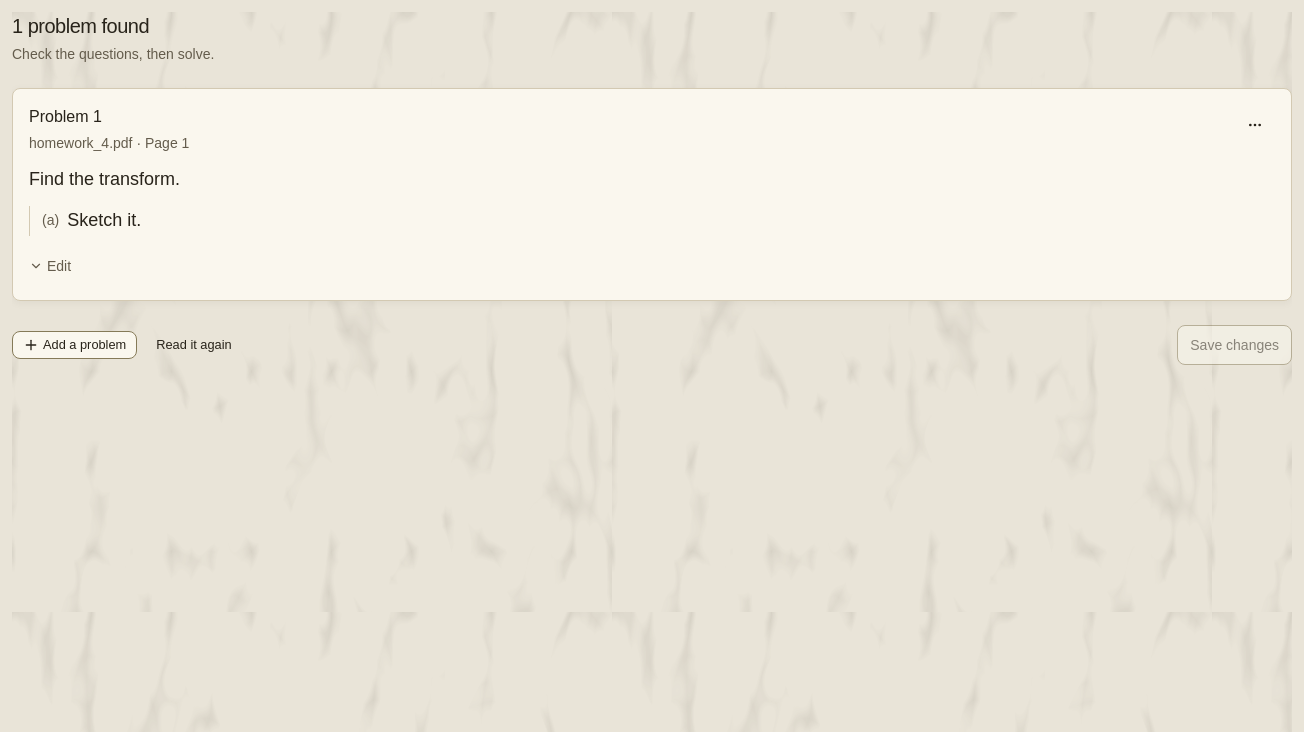
it: SegmentationReview › undo › brings back a sub-part removed by mistake
Step 1. Click the button "Edit" → [50, 266], box [29, 248, 71, 284]
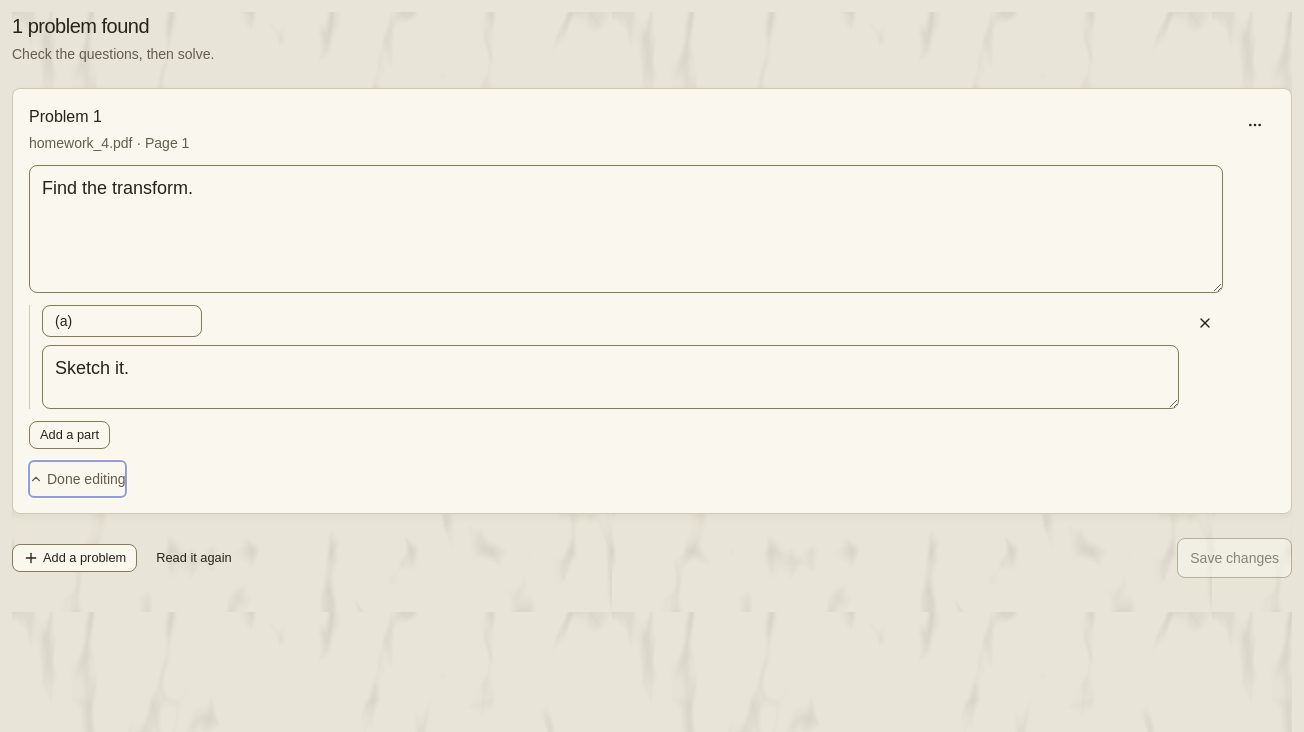
Step 2. Click the button named "Remove part (a) of Problem 1" → [1205, 323], box [1187, 305, 1223, 341]
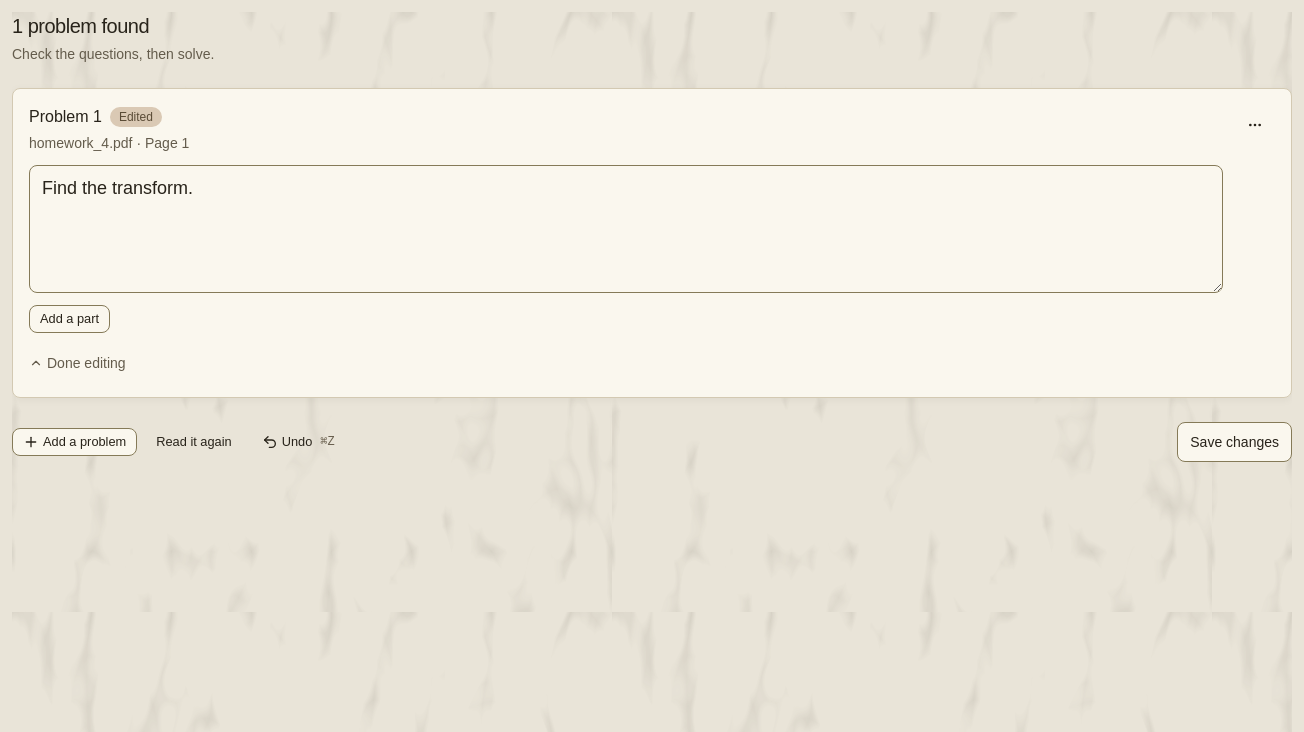
Expected: the text "Sketch it." is not shown
Step 3. Click the button "Undo ⌘Z" → [298, 442], box [251, 428, 346, 456]
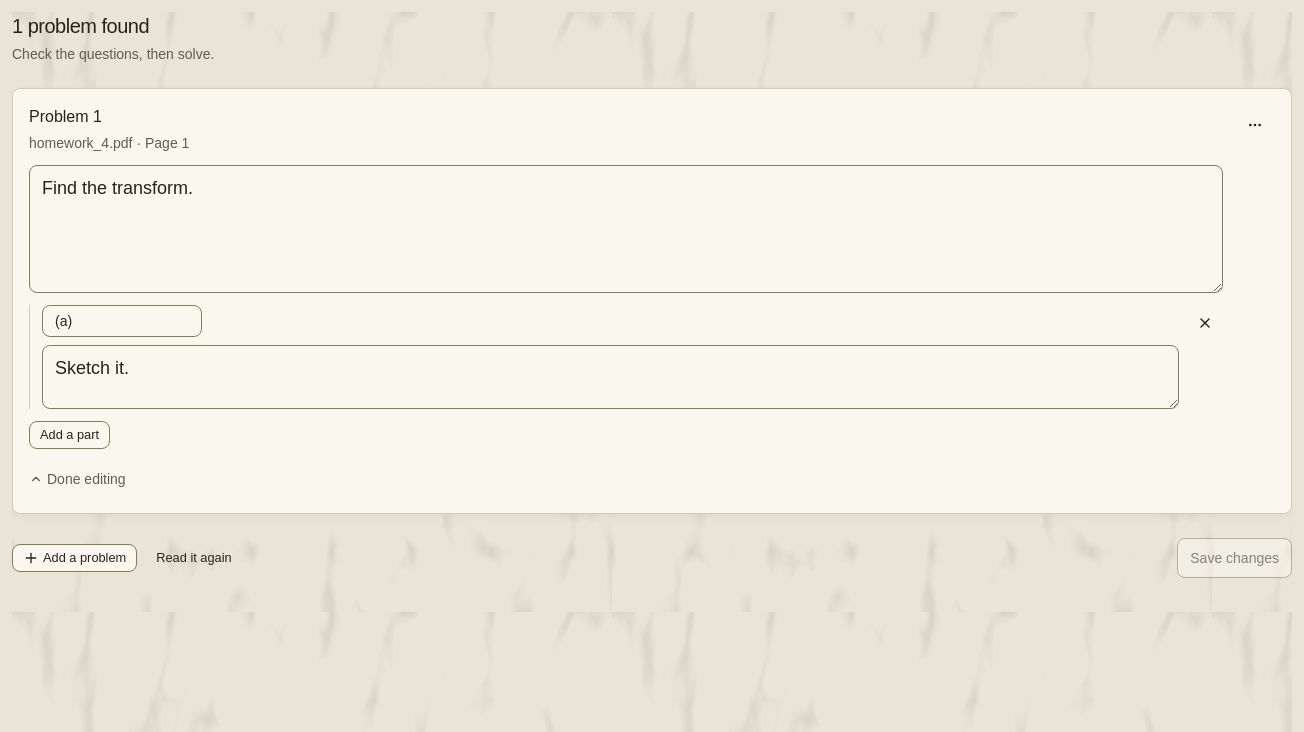
Expected: the text box named "Part 1 statement of Problem 1" holds "Sketch it.", [42, 345, 1179, 409]
